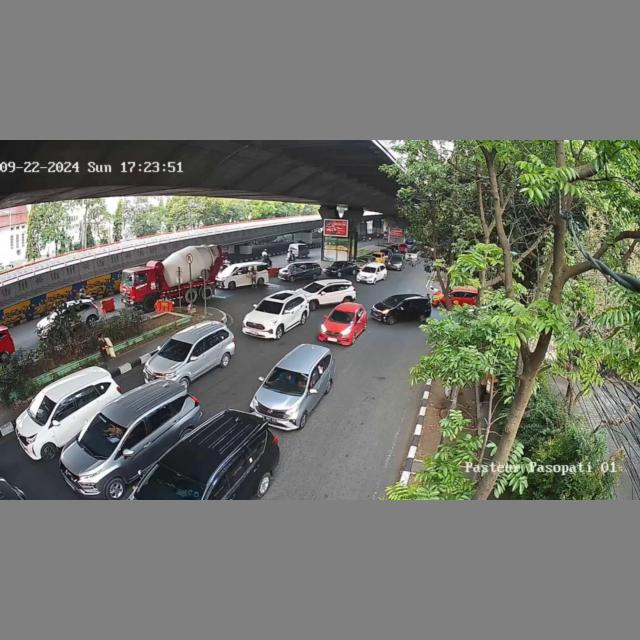windshield: (77, 414, 128, 459), (263, 367, 311, 394), (24, 391, 54, 424), (156, 339, 194, 363), (252, 299, 284, 316), (329, 311, 355, 324), (384, 296, 401, 306)
